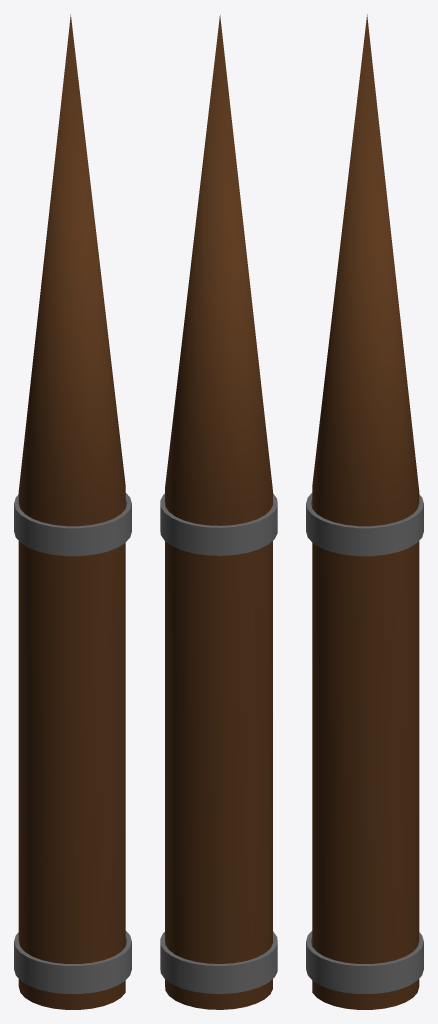
Rendered from Stake.fbx.
3 renders of one model, left to right at view 1: azimuth 90°, elevation 25°; view 2: azimuth 210°, elevation 25°; view 3: azimuth 270°, elevation 25°, orthographic.
Visible parts, largest first — view 1: Stake; view 2: Stake; view 3: Stake.
Boxes of the visible parts, x1,y1,x2,y2 form: Stake: [14, 14, 131, 1009]; Stake: [160, 15, 277, 1009]; Stake: [306, 14, 423, 1009].
Bounding box in the file's own units: 3.2 × 29.39 × 3.23.
